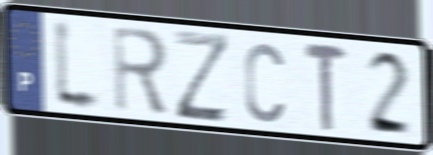2: (361, 50, 414, 137)
C: (242, 39, 286, 125)
L: (52, 14, 107, 118)
R: (110, 23, 171, 117)
T: (301, 39, 350, 134)
Z: (172, 28, 233, 125)
